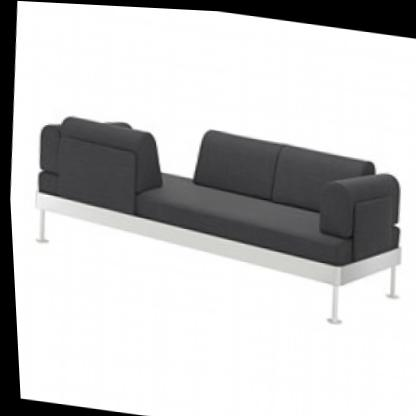Sofa: (10, 79, 416, 346)
